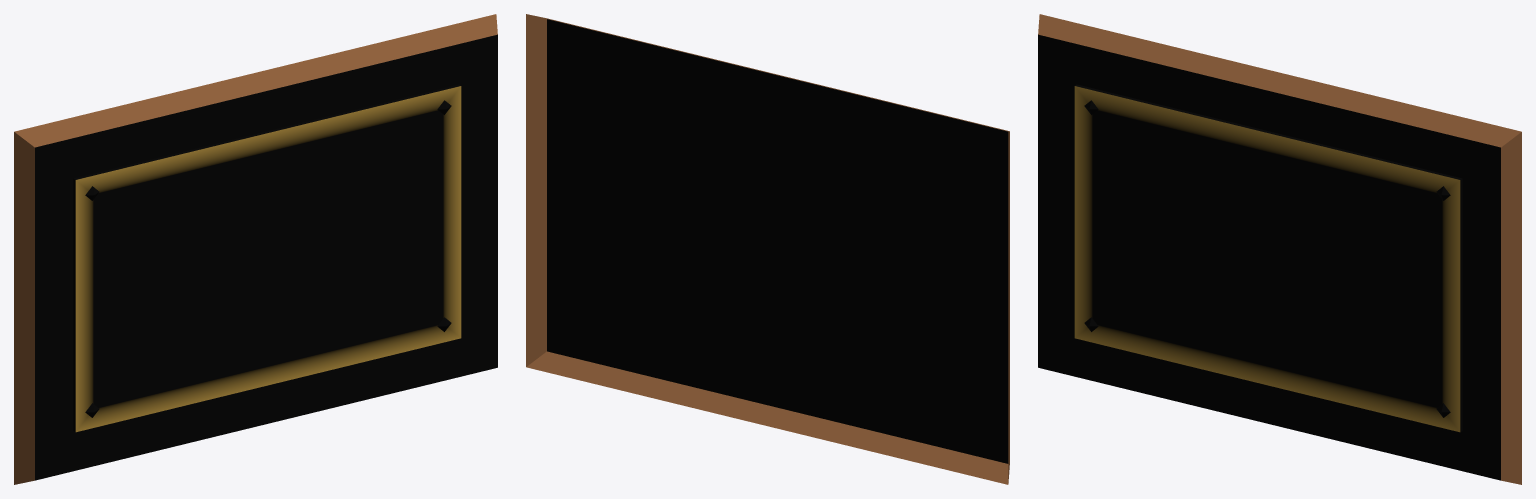
Rendered from plaque.glb.
The picture shows the model from 3 angles, left to right: view 1: azimuth 30°, elevation 25°; view 2: azimuth 150°, elevation 25°; view 3: azimuth 330°, elevation 25°; orthographic projection.
Visible parts, largest first — view 1: brass, teak, engraving; view 2: teak; view 3: brass, teak, engraving.
Part boxes in pixels (left/top/right/bottom): brass: left=73, top=84, right=461, bottom=432; teak: left=14, top=14, right=497, bottom=484; engraving: left=112, top=158, right=425, bottom=351; teak: left=526, top=14, right=1009, bottom=484; brass: left=1074, top=84, right=1462, bottom=432; teak: left=1038, top=14, right=1521, bottom=484; engraving: left=1110, top=158, right=1423, bottom=351.
Bounding box in the file's own units: 0.4 × 0.28 × 0.022.
